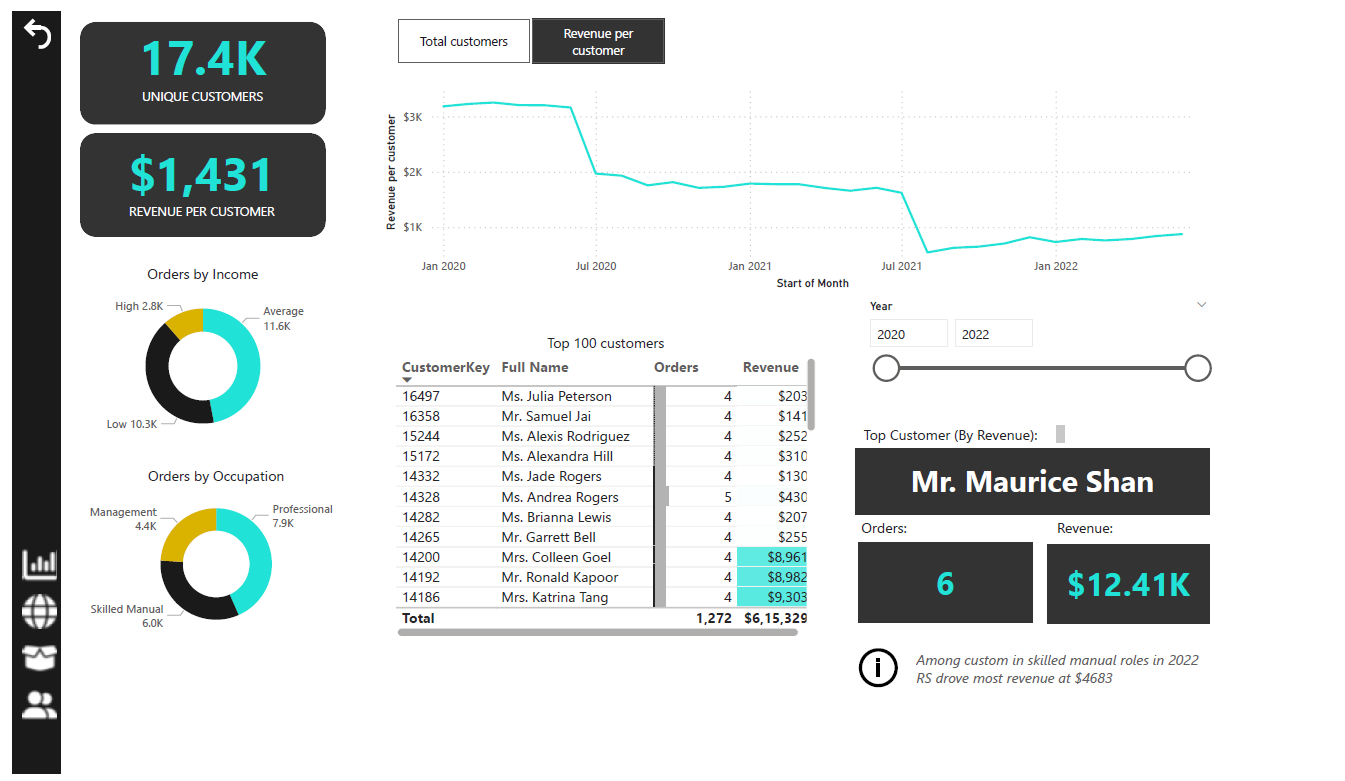

The page's visual inventory and layout, read from the dashboard file:
{"tool":"powerbi","page":{"name":"Customer Detail","canvas":[1280,720],"ordinal":3},"visuals":[{"type":"shape","box":[0,0,45,720],"z":0},{"type":"actionButton","box":[6.2,547,44.3,39.9],"z":0,"group":"g1"},{"type":"shape","box":[63.8,114.9,231.9,97.9],"z":1000},{"type":"actionButton","box":[6.2,591,44.3,39.9],"z":1000,"group":"g1"},{"type":"card","fields":{"Values":["Measure Table.Avg revenue per customer"]},"box":[36.2,107.4,286.2,104.3],"z":2000},{"type":"actionButton","box":[6.2,503.1,44.3,39.9],"z":2000,"group":"g1"},{"type":"shape","box":[63.8,9.6,231.9,97.9],"z":3000},{"type":"actionButton","box":[6.2,634.9,44.3,39.9],"z":3000,"group":"g1"},{"type":"card","fields":{"Values":["Measure Table.Total customers"]},"box":[48.9,0,260.6,98.9],"z":4000},{"type":"lineChart","fields":{"Category":["Calendar Lookup.Date hierarchy.Start of Year","Calendar Lookup.Date hierarchy.Start of Month","Calendar Lookup.Date hierarchy.Start of Week","Calendar Lookup.Date hierarchy.Date"],"Y":["Measure Table.Avg revenue per customer"]},"box":[347.1,58.6,783.9,208],"z":5000},{"type":"donutChart","title":"Orders by Income ","fields":{"Category":["Customer Lookup.Income level"],"Y":["Measure Table.Total orders"]},"box":[64.3,238.6,231.4,174.3],"z":6000},{"type":"donutChart","title":"Orders by Occupation ","fields":{"Category":["Customer Lookup.Occupation"],"Y":["Measure Table.Total orders"]},"box":[64.3,430,257.1,165.7],"z":7000},{"type":"tableEx","title":"Top 100 customers","fields":{"Values":["Customer Lookup.CustomerKey","Customer Lookup.Full Name","Measure Table.Total orders","Measure Table.Total revenue"]},"box":[357.1,304.3,407.1,291.4],"z":8000},{"type":"card","fields":{"Values":["Measure Table.Full name(customer details)"]},"box":[796.4,412.9,334.2,62],"z":9000},{"type":"card","fields":{"Values":["Measure Table.Total orders(customer details)"]},"box":[799.4,502.3,164.6,74.7],"z":10000},{"type":"card","fields":{"Values":["Measure Table.Total revenue(customer details)"]},"box":[977.8,503.6,153.2,74.7],"z":11000},{"type":"textbox","box":[799.4,385.9,200,26.6],"z":12000},{"type":"textbox","box":[796.8,474.5,167.1,29.1],"z":13000},{"type":"textbox","box":[977.8,474.5,130.4,35.4],"z":14000},{"type":"slicer","fields":{"Values":["Calendar Lookup.Year"]},"box":[797.1,267.1,344.3,92.9],"z":15000},{"type":"actionButton","box":[794.3,595.7,347.1,48.6],"z":16000},{"type":"actionButton","box":[4.8,2.4,44.6,37.3],"z":17000},{"type":"group","id":"g1","title":"navigation buttons","box":[6.2,503.1,44.6,180],"z":18000},{"type":"slicer","fields":{"Values":["Customer Metric Selection.Customer Metric Selection"]},"box":[337.9,0,302.3,55.2],"z":19000}]}

Visuals, with their boxes on the page's 1280x720 design canvas (x1, y1, x2, y2). These are canvas units, not pixel positions in the 1345x781 screenshot, which may show the page scaled, cropped or inside an application window:
shape: pyautogui.locateOnScreen(0, 0, 45, 720)
actionButton: pyautogui.locateOnScreen(6, 547, 50, 587)
shape: pyautogui.locateOnScreen(64, 115, 296, 213)
actionButton: pyautogui.locateOnScreen(6, 591, 50, 631)
card - Measure Table.Avg revenue per customer: pyautogui.locateOnScreen(36, 107, 322, 212)
actionButton: pyautogui.locateOnScreen(6, 503, 50, 543)
shape: pyautogui.locateOnScreen(64, 10, 296, 108)
actionButton: pyautogui.locateOnScreen(6, 635, 50, 675)
card - Measure Table.Total customers: pyautogui.locateOnScreen(49, 0, 310, 99)
lineChart - Calendar Lookup.Date hierarchy.Start of Year x Calendar Lookup.Date hierarchy.Start of Month: pyautogui.locateOnScreen(347, 59, 1131, 267)
"Orders by Income " donutChart: pyautogui.locateOnScreen(64, 239, 296, 413)
"Orders by Occupation " donutChart: pyautogui.locateOnScreen(64, 430, 321, 596)
"Top 100 customers" tableEx: pyautogui.locateOnScreen(357, 304, 764, 596)
card - Measure Table.Full name(customer details): pyautogui.locateOnScreen(796, 413, 1131, 475)
card - Measure Table.Total orders(customer details): pyautogui.locateOnScreen(799, 502, 964, 577)
card - Measure Table.Total revenue(customer details): pyautogui.locateOnScreen(978, 504, 1131, 578)
textbox: pyautogui.locateOnScreen(799, 386, 999, 412)
textbox: pyautogui.locateOnScreen(797, 474, 964, 504)
textbox: pyautogui.locateOnScreen(978, 474, 1108, 510)
slicer - Calendar Lookup.Year: pyautogui.locateOnScreen(797, 267, 1141, 360)
actionButton: pyautogui.locateOnScreen(794, 596, 1141, 644)
actionButton: pyautogui.locateOnScreen(5, 2, 49, 40)
"navigation buttons" group: pyautogui.locateOnScreen(6, 503, 51, 683)
slicer - Customer Metric Selection.Customer Metric Selection: pyautogui.locateOnScreen(338, 0, 640, 55)
